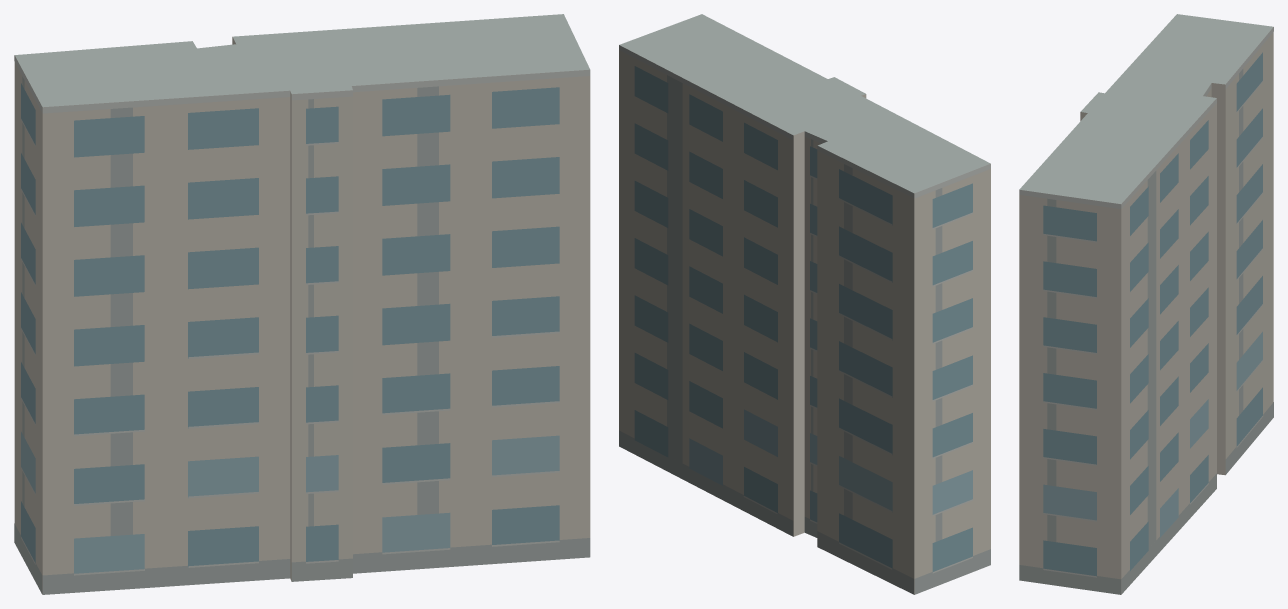
Rendered from survey-upis-32806513.glb.
The picture shows the model from 3 angles, left to right: view 1: azimuth 30°, elevation 25°; view 2: azimuth 150°, elevation 25°; view 3: azimuth 270°, elevation 25°; orthographic projection. The views are drawn at different scales.
Parts seen in each view (by area): view 1: survey-upis-32806513.tmp; view 2: survey-upis-32806513.tmp; view 3: survey-upis-32806513.tmp.
Boxes of the visible parts, <box> form: survey-upis-32806513.tmp: <box>14,14,590,594</box>; survey-upis-32806513.tmp: <box>619,14,990,594</box>; survey-upis-32806513.tmp: <box>1019,14,1273,594</box>.
Bounding box in the file's own units: 19.74 × 18.9 × 11.17.
